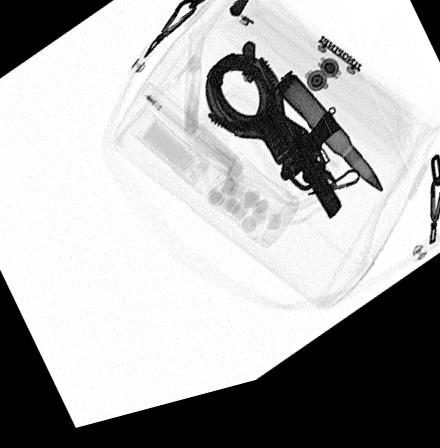Bullet: (273, 86, 383, 211)
Gun: (289, 129, 343, 239)
HandCuffs: (201, 65, 329, 210)
